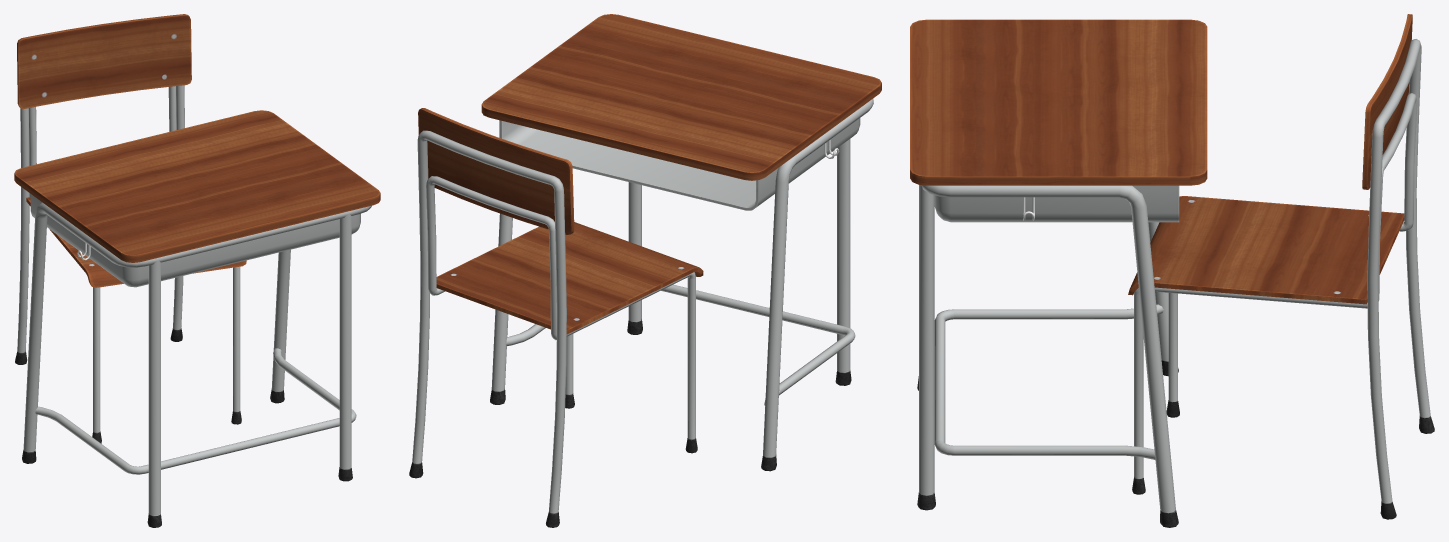
File: japan_school_desk.glb
3 views of the same model, side by side, from view 1: azimuth 30°, elevation 25°; view 2: azimuth 150°, elevation 25°; view 3: azimuth 270°, elevation 25° (orthographic). The views are drawn at different scales.
Parts seen in each view (by area): view 1: table, chair; view 2: table, chair; view 3: table, chair.
Part boxes in pixels (left/top/right/bottom): table: left=14, top=110, right=380, bottom=527; chair: left=15, top=14, right=246, bottom=443; table: left=481, top=14, right=881, bottom=471; chair: left=409, top=108, right=703, bottom=527; table: left=910, top=19, right=1207, bottom=527; chair: left=1128, top=14, right=1434, bottom=519.
Size of what is drawn, in the model's own units: 0.7611 by 0.9191 by 1.06.
1 material, 1 textured.
